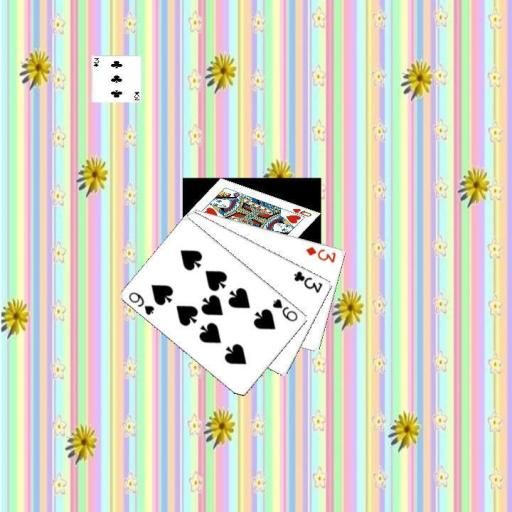card-corner: (291, 268, 324, 294), (270, 295, 300, 323), (126, 289, 156, 316), (303, 243, 338, 264)
